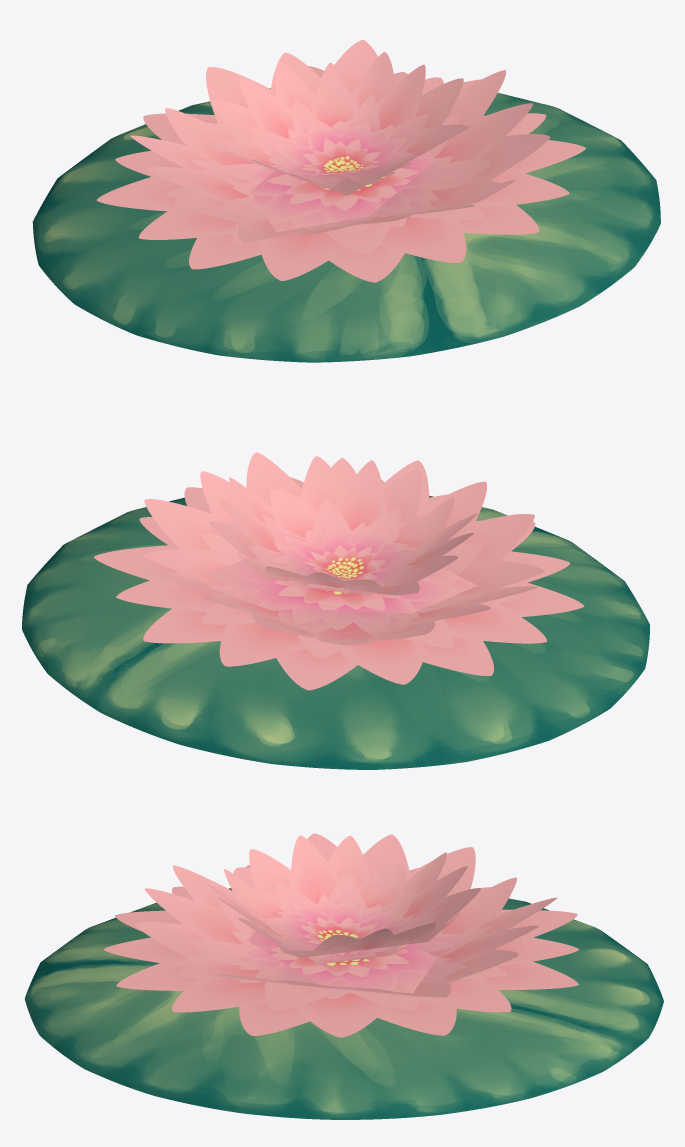
The model's file is Lotus_Animation.fbx.
3 views of the same model, one above another, from view 1: azimuth 30°, elevation 25°; view 2: azimuth 150°, elevation 25°; view 3: azimuth 270°, elevation 25° (orthographic).
Visible parts, largest first — view 1: pSphere1, pPlane1, pPlane2, pPlane3; view 2: pSphere1, pPlane1, pPlane2, pPlane3; view 3: pSphere1, pPlane1, pPlane3, pPlane2, pPlane4.
Part boxes in pixels (bbox=[...]): pSphere1: bbox=[32, 88, 660, 362]; pPlane1: bbox=[96, 66, 585, 282]; pPlane2: bbox=[130, 40, 550, 242]; pPlane3: bbox=[210, 52, 469, 195]; pSphere1: bbox=[22, 495, 649, 769]; pPlane1: bbox=[94, 477, 584, 690]; pPlane2: bbox=[143, 452, 544, 645]; pPlane3: bbox=[209, 456, 477, 595]; pSphere1: bbox=[24, 888, 663, 1119]; pPlane1: bbox=[103, 865, 579, 1037]; pPlane3: bbox=[204, 835, 480, 957]; pPlane2: bbox=[134, 833, 556, 997]; pPlane4: bbox=[306, 945, 403, 964].
Bounding box in the file's own units: 14.2 × 3.65 × 14.22.
